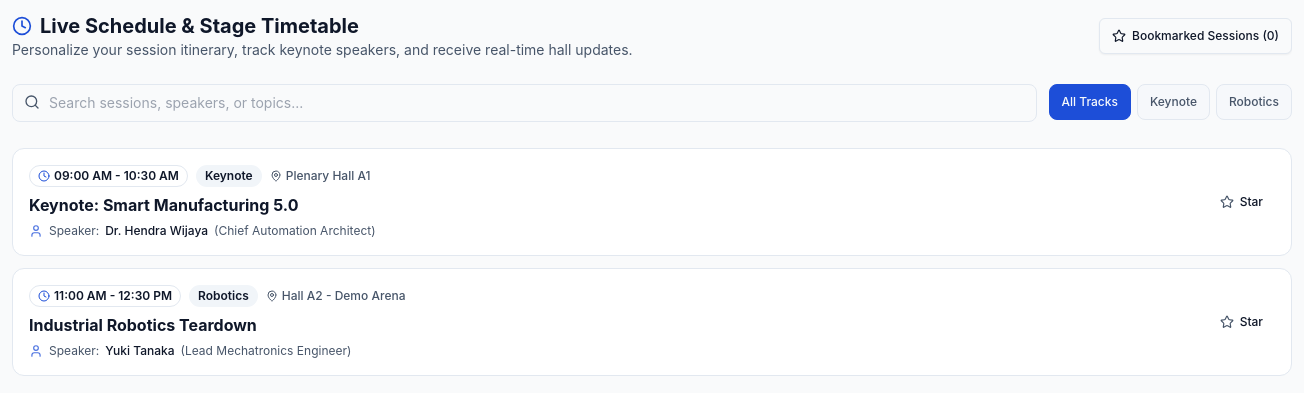
Test: Phase 6 Unit: Ticket & Event Treats Component System › InteractiveGuidebook Component › renders session schedule and filters by track
This screenshot has width=1304, height=393.
Check: the button "Keynote: Smart Manufacturing 5.0" is shown, box [29,193,298,217]
Check: the button "Industrial Robotics Teardown" is shown, box [29,313,257,337]
Note: Click "Robotics" track filter button specifically
Click the button "Robotics".
click(1254, 102)  # box [1216,84,1292,120]
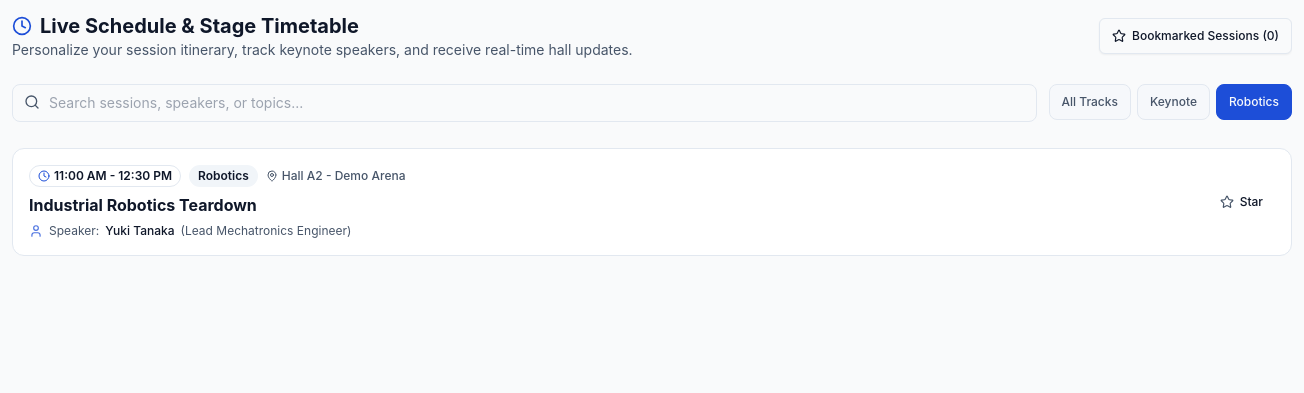
Check: the button "Industrial Robotics Teardown" is shown, box [29,193,257,217]
Check: the button "Keynote: Smart Manufacturing 5.0" is gone
